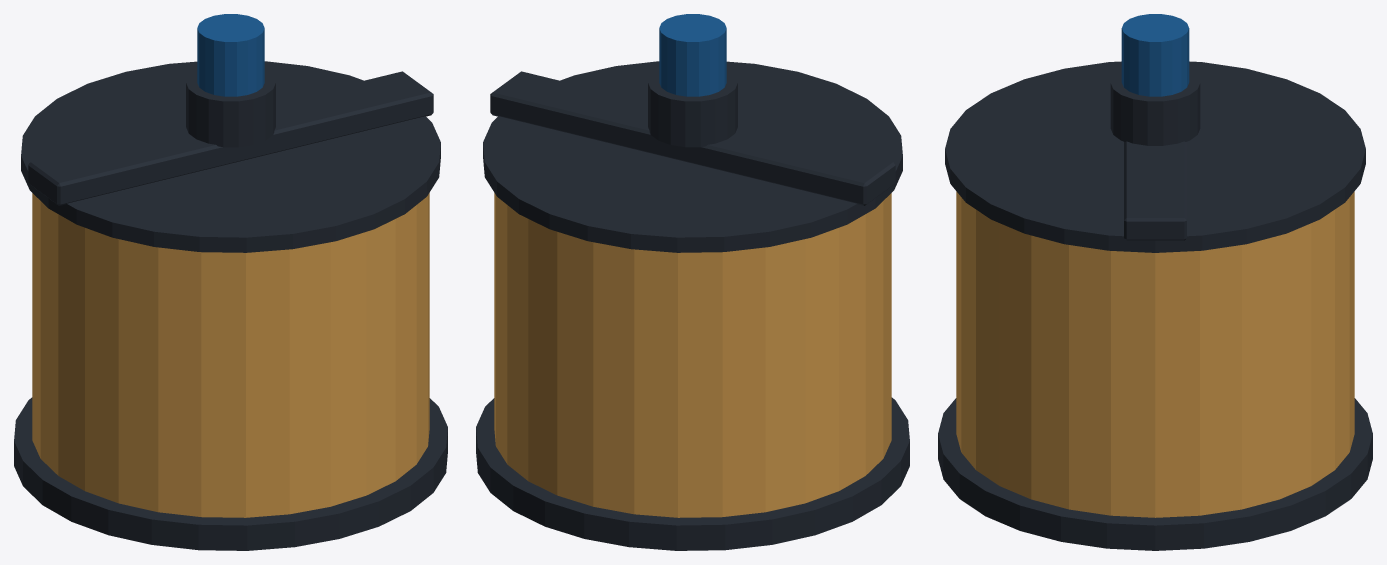
The model's file is magnetite_tank_tk301.glb.
The picture shows the model from 3 angles, left to right: view 1: azimuth 30°, elevation 25°; view 2: azimuth 150°, elevation 25°; view 3: azimuth 270°, elevation 25°; orthographic projection.
Parts seen in each view (by area): view 1: TK301_Shell, TK301_AgitatorBridge, TK301_AgitatorMotor; view 2: TK301_Shell, TK301_AgitatorBridge, TK301_AgitatorMotor; view 3: TK301_Shell, TK301_AgitatorBridge, TK301_AgitatorMotor.
Part boxes in pixels (left/top/right/bottom): TK301_Shell: left=32, top=193, right=429, bottom=517; TK301_AgitatorBridge: left=14, top=61, right=447, bottom=550; TK301_AgitatorMotor: left=197, top=14, right=264, bottom=96; TK301_Shell: left=494, top=193, right=891, bottom=517; TK301_AgitatorBridge: left=476, top=61, right=909, bottom=550; TK301_AgitatorMotor: left=659, top=14, right=726, bottom=96; TK301_Shell: left=956, top=191, right=1354, bottom=517; TK301_AgitatorBridge: left=938, top=61, right=1372, bottom=550; TK301_AgitatorMotor: left=1121, top=14, right=1189, bottom=96.
Size of the model in its own units: 3.1 by 3.39 by 3.1.
